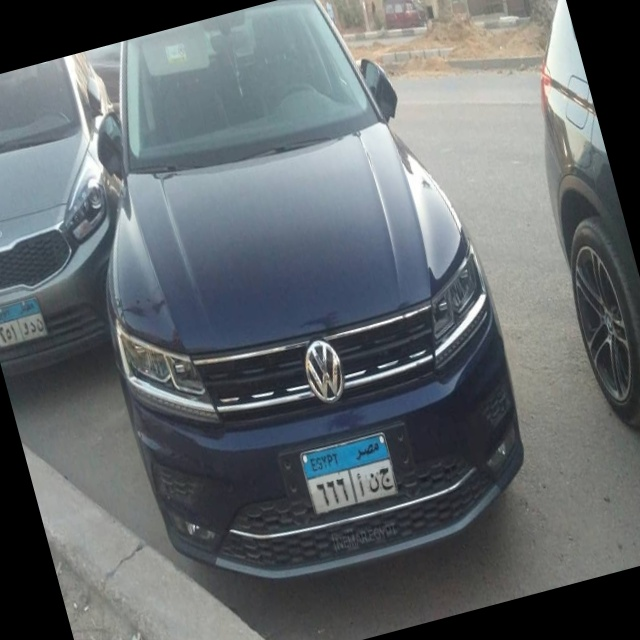License Plate: (296, 426, 402, 521), (0, 292, 52, 354)
